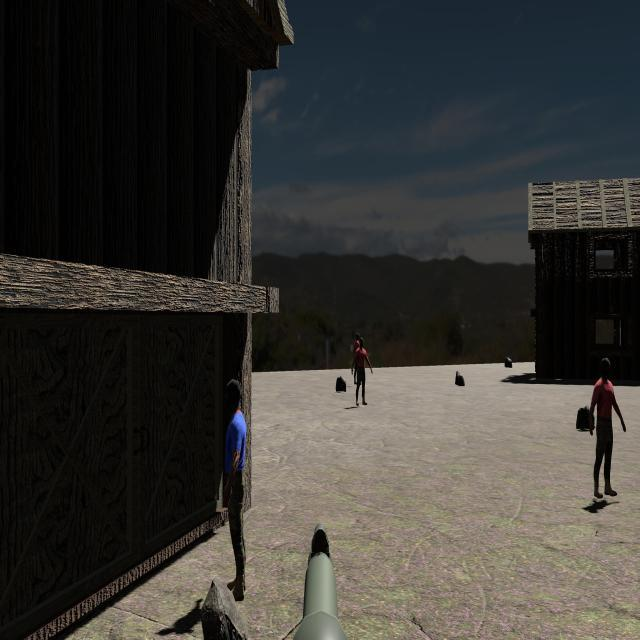House: (0, 0, 284, 335)
Human: (221, 376, 248, 605), (589, 357, 626, 499), (353, 336, 373, 407)
